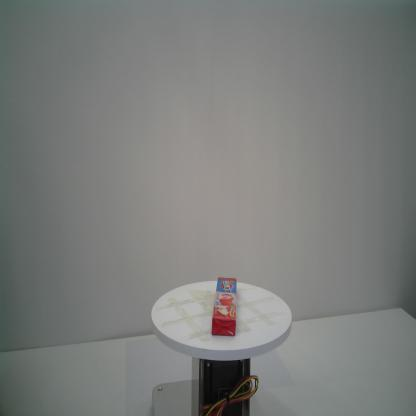Candy: (211, 278, 237, 336)
